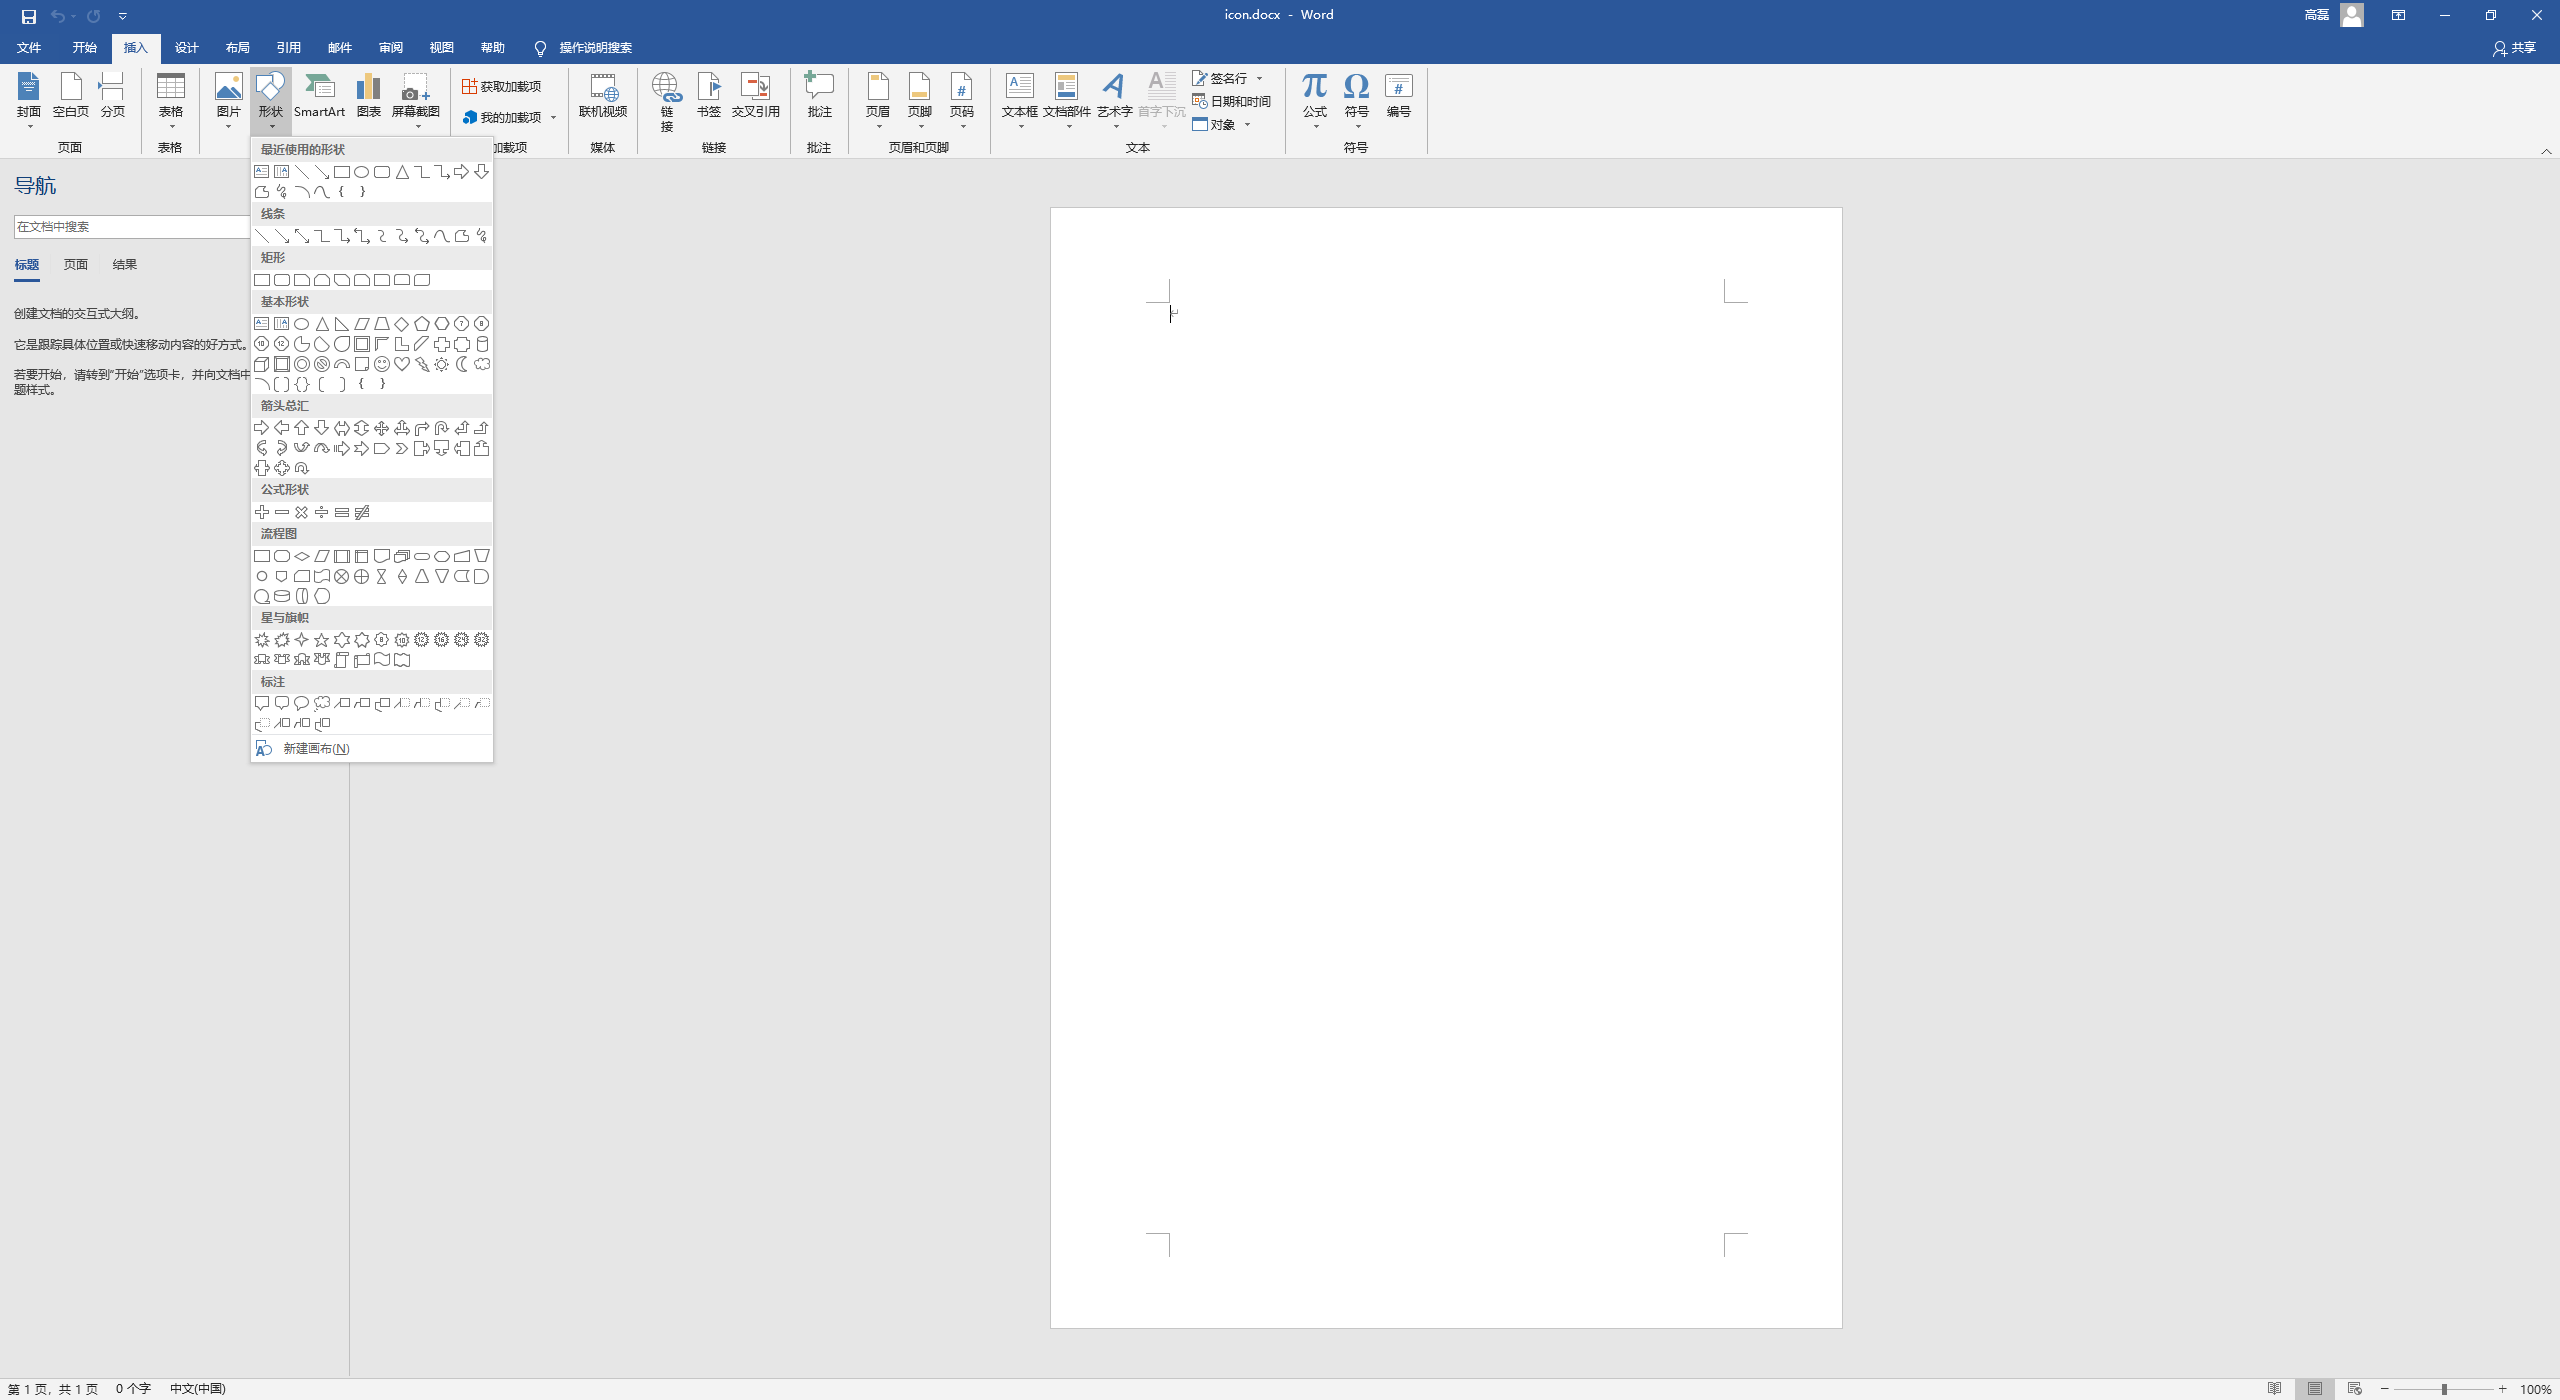character: (10, 367, 250, 397), (5, 1379, 234, 1400), (10, 338, 248, 353), (10, 303, 141, 324), (1215, 3, 1346, 24), (557, 40, 638, 55), (259, 141, 347, 155), (279, 740, 357, 755), (14, 217, 90, 233), (479, 78, 546, 95), (884, 140, 953, 155), (10, 176, 59, 197), (1210, 95, 1272, 109), (259, 295, 312, 310), (259, 398, 312, 414), (259, 609, 310, 624), (259, 483, 315, 497), (481, 110, 540, 122), (578, 103, 628, 117), (59, 253, 91, 274), (257, 526, 300, 541), (393, 103, 441, 117), (376, 38, 410, 57), (293, 105, 347, 117), (729, 105, 783, 117), (109, 255, 141, 274), (2519, 1379, 2551, 1398), (1043, 105, 1093, 117), (1138, 105, 1186, 117), (52, 105, 91, 119), (14, 40, 45, 57), (272, 38, 303, 55), (10, 255, 41, 272), (803, 140, 838, 155), (1210, 71, 1248, 84), (53, 140, 86, 155), (584, 140, 617, 155), (495, 140, 531, 153), (171, 40, 202, 55), (659, 105, 674, 136), (1000, 105, 1040, 117), (69, 40, 98, 55), (222, 38, 252, 53), (155, 140, 184, 155), (805, 103, 834, 119), (1384, 103, 1414, 119), (259, 205, 288, 221), (479, 38, 505, 55), (695, 103, 721, 121), (257, 674, 293, 686), (1096, 105, 1133, 117), (121, 40, 148, 55), (426, 40, 457, 53), (353, 105, 384, 119), (259, 250, 288, 264), (864, 105, 893, 119), (905, 103, 934, 117), (1124, 141, 1153, 155), (1343, 140, 1369, 155), (326, 40, 353, 53), (2301, 7, 2329, 21), (16, 103, 41, 117), (702, 140, 727, 153), (1345, 105, 1371, 119), (948, 105, 976, 117), (1303, 103, 1327, 117), (157, 103, 183, 116), (259, 105, 284, 117), (2512, 41, 2538, 53), (215, 103, 240, 116), (98, 109, 128, 117), (1212, 119, 1236, 129)
icon: (253, 67, 288, 103), (648, 69, 683, 103), (212, 71, 247, 103), (738, 69, 772, 102), (802, 67, 836, 100), (55, 69, 88, 102), (695, 67, 726, 102), (903, 67, 934, 102), (1052, 67, 1081, 103), (864, 67, 893, 102), (946, 67, 976, 102), (14, 71, 45, 102), (1300, 71, 1331, 102), (97, 69, 126, 102), (303, 69, 336, 98), (153, 71, 186, 100), (588, 72, 621, 102), (1339, 71, 1372, 100), (1146, 69, 1179, 98), (398, 72, 429, 102), (1098, 71, 1127, 102), (353, 71, 383, 100), (1003, 71, 1034, 98), (1383, 71, 1414, 98), (2339, 3, 2363, 26), (2263, 1379, 2289, 1397), (2339, 1379, 2363, 1397), (460, 76, 479, 95), (1189, 67, 1208, 86), (1189, 91, 1208, 110), (253, 738, 272, 757), (412, 228, 431, 247), (2305, 1379, 2324, 1398), (433, 160, 450, 181), (291, 334, 310, 352), (472, 226, 490, 245), (1191, 114, 1208, 133), (2491, 40, 2508, 59), (2527, 5, 2546, 22), (352, 503, 371, 521), (453, 547, 471, 566), (252, 631, 271, 648), (352, 631, 371, 648), (472, 547, 491, 564), (333, 334, 350, 352), (372, 355, 390, 372), (253, 334, 271, 352), (372, 334, 390, 352), (293, 228, 310, 245), (293, 374, 310, 391), (293, 183, 310, 200), (393, 334, 410, 352), (393, 355, 410, 372), (253, 355, 271, 372), (314, 228, 331, 245), (272, 374, 290, 391), (472, 162, 490, 179), (2482, 5, 2500, 22), (2389, 5, 2407, 22), (372, 547, 390, 564), (293, 419, 310, 436), (252, 419, 269, 436), (472, 567, 490, 584), (453, 419, 471, 436), (472, 631, 490, 648), (66, 9, 84, 24), (395, 629, 410, 648), (372, 652, 391, 667), (293, 355, 310, 371), (272, 334, 290, 350), (353, 336, 371, 352), (314, 355, 329, 372), (333, 355, 350, 371), (352, 164, 369, 179), (353, 316, 371, 331), (393, 316, 409, 333), (272, 164, 290, 179), (372, 164, 390, 179), (372, 316, 390, 331), (293, 164, 310, 179), (19, 9, 36, 24), (274, 228, 290, 245), (312, 184, 329, 200), (84, 9, 102, 24), (253, 228, 271, 243), (48, 9, 66, 24), (353, 229, 371, 245), (533, 40, 548, 57), (472, 355, 490, 371), (472, 316, 490, 331), (433, 336, 450, 352), (414, 355, 429, 372), (453, 228, 471, 243), (333, 567, 348, 584), (353, 567, 369, 584), (314, 586, 329, 603), (293, 548, 310, 564), (272, 588, 290, 603), (374, 697, 391, 712), (272, 548, 290, 564), (393, 548, 410, 564), (353, 652, 371, 667), (274, 459, 290, 476), (291, 695, 309, 710), (372, 421, 390, 436), (253, 548, 271, 564), (333, 421, 350, 436), (352, 421, 369, 436), (253, 460, 271, 476), (253, 503, 269, 521), (453, 567, 471, 583), (472, 440, 490, 455), (453, 440, 471, 455), (2439, 1381, 2455, 1398), (434, 228, 452, 243), (312, 633, 329, 648), (334, 633, 352, 648), (353, 697, 372, 710), (353, 355, 369, 371), (314, 336, 329, 352), (274, 355, 290, 371), (314, 164, 329, 179), (333, 316, 348, 331), (333, 164, 348, 179), (314, 316, 329, 331), (253, 316, 269, 331), (253, 183, 269, 198), (395, 164, 410, 179), (272, 183, 288, 198), (336, 229, 352, 245), (414, 334, 429, 350), (462, 109, 478, 124), (453, 316, 469, 331), (453, 336, 469, 352), (414, 316, 429, 331), (453, 164, 469, 179), (434, 355, 450, 371), (353, 548, 369, 564), (333, 548, 348, 564), (293, 567, 309, 583), (314, 567, 329, 583), (293, 588, 309, 603), (314, 548, 329, 564), (253, 588, 269, 603), (374, 440, 390, 455), (333, 505, 348, 521), (333, 652, 348, 667), (333, 440, 348, 455), (253, 695, 269, 710), (314, 695, 329, 710), (274, 695, 290, 710), (393, 652, 409, 667), (253, 440, 269, 455), (393, 421, 409, 436), (434, 697, 450, 712), (414, 567, 429, 583), (433, 421, 448, 436), (433, 440, 448, 455), (414, 440, 429, 455), (414, 421, 429, 436), (414, 548, 429, 564), (434, 548, 450, 564), (472, 421, 488, 436), (2377, 1379, 2393, 1395), (293, 633, 309, 648), (414, 631, 429, 647), (453, 633, 469, 648), (333, 272, 350, 286), (353, 272, 371, 286), (272, 272, 290, 286), (393, 272, 410, 286), (253, 272, 271, 286), (253, 378, 271, 391), (414, 164, 428, 181), (476, 334, 490, 352), (455, 697, 472, 710), (433, 633, 450, 647), (2539, 143, 2557, 157), (455, 353, 467, 372), (252, 653, 271, 666), (293, 317, 309, 331), (314, 272, 329, 286), (274, 316, 290, 329), (295, 272, 310, 286), (374, 272, 390, 286), (253, 164, 269, 178), (114, 9, 129, 22), (395, 228, 409, 243), (414, 272, 429, 286), (433, 316, 448, 329), (872, 117, 886, 133), (2436, 9, 2451, 22), (295, 460, 309, 476), (274, 505, 290, 519), (255, 716, 271, 729), (293, 505, 309, 519), (395, 569, 409, 584), (353, 441, 369, 455), (274, 440, 288, 455), (314, 652, 329, 666), (276, 716, 291, 729), (374, 633, 390, 647), (276, 421, 290, 436), (314, 421, 329, 434), (295, 716, 310, 729), (434, 567, 448, 583), (2494, 1383, 2510, 1397), (476, 695, 491, 709), (336, 374, 348, 391), (374, 567, 386, 584), (395, 697, 412, 709), (353, 376, 367, 390), (334, 184, 348, 198), (914, 117, 927, 131), (957, 119, 971, 133), (1239, 117, 1253, 131), (1062, 119, 1076, 133), (395, 441, 409, 455), (255, 569, 269, 583), (315, 716, 329, 729), (314, 505, 328, 519), (295, 440, 309, 453), (276, 633, 290, 647), (410, 119, 426, 131), (315, 376, 328, 391), (376, 228, 388, 243), (165, 119, 181, 131), (314, 441, 329, 453), (334, 697, 350, 709), (274, 652, 290, 664), (295, 653, 310, 666), (67, 9, 79, 22), (265, 119, 279, 131), (1014, 119, 1027, 131), (1253, 71, 1265, 84), (1108, 119, 1122, 131), (274, 571, 288, 583), (415, 697, 429, 709), (222, 119, 234, 131), (24, 119, 36, 131), (355, 184, 367, 197), (1310, 119, 1322, 131), (1352, 119, 1364, 131), (376, 378, 388, 390), (548, 110, 559, 122), (1158, 121, 1171, 131)
